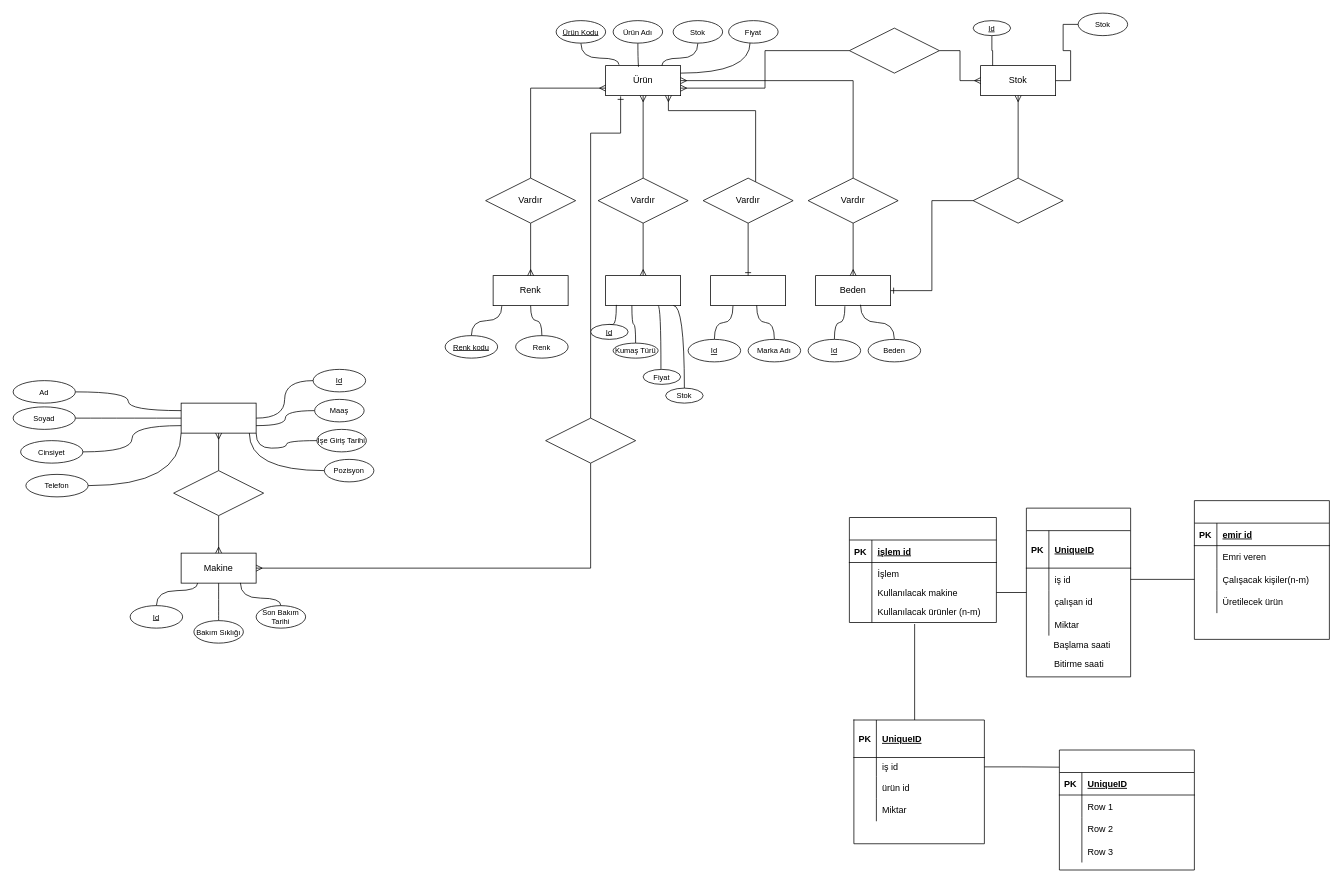
The diagram is 1343 pixels wide and 884 high, and some of its shapes have lost their labels. The box of each missing label's shape, as (x1, y1, x2, y2) in pixels:
Bilgisini tutar: (972, 177, 1063, 223)
iş - emir: (1026, 507, 1131, 677)
iş - ürün: (853, 719, 984, 844)
Kullanır: (173, 470, 264, 516)
Kumaş: (605, 275, 681, 306)
Marka: (710, 275, 786, 306)
Stoğu tutulur: (849, 27, 939, 73)
Yapılacak işler: (849, 517, 996, 622)
Çalışan: (180, 402, 256, 433)
Üretim emri: (1194, 500, 1329, 639)
Üretir: (545, 417, 636, 463)
ürünler: (1059, 749, 1194, 870)
